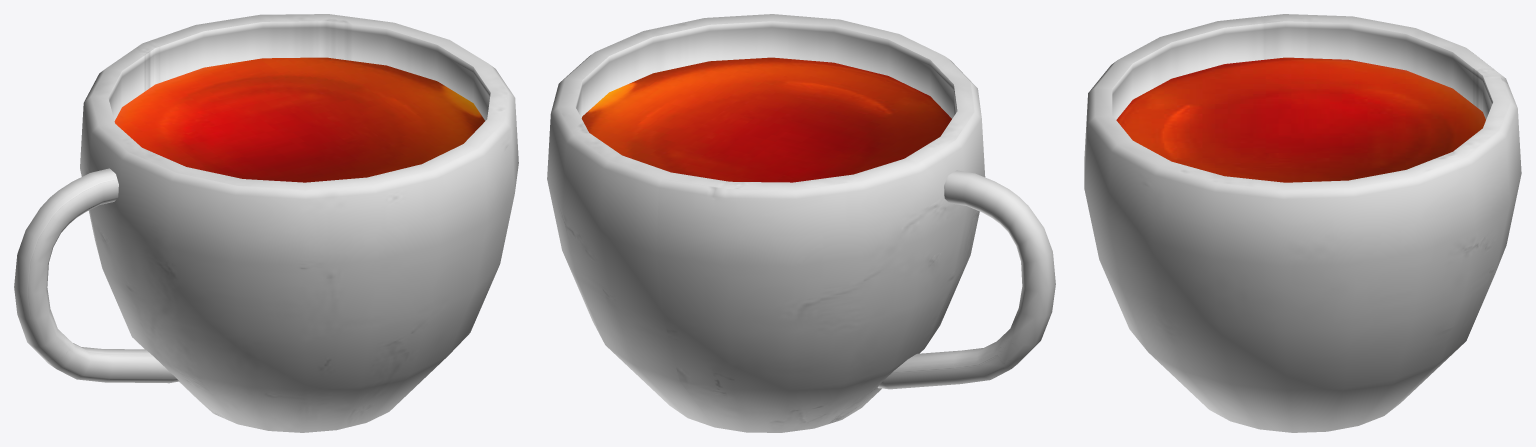
3 views of the same model, side by side, from view 1: azimuth 30°, elevation 25°; view 2: azimuth 150°, elevation 25°; view 3: azimuth 270°, elevation 25° (orthographic).
Visible parts, largest first — view 1: tazaLlena; view 2: tazaLlena; view 3: tazaLlena.
Part boxes in pixels (<box>): tazaLlena: <box>14,14,518,432</box>; tazaLlena: <box>547,14,1055,432</box>; tazaLlena: <box>1084,14,1521,432</box>.
Bounding box in the file's own units: 238 × 137 × 190.
2 materials, 2 textured.
